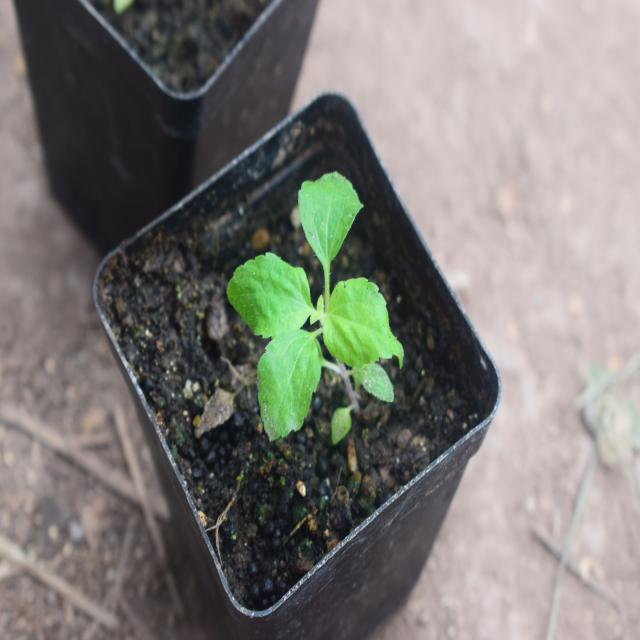billygoat_weed: (219, 168, 401, 444)
